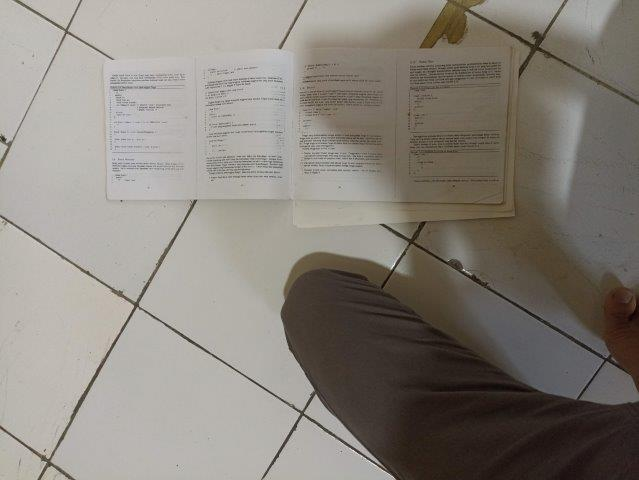kertas: (104, 47, 519, 228)
